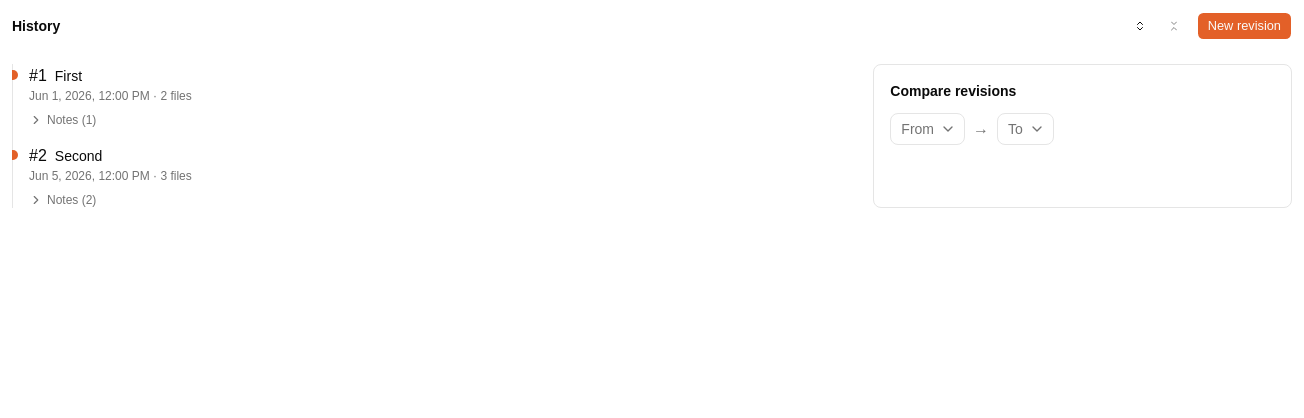
RevisionsTab -- notes drawer expand/collapse-all (Round 11 T7) › toggling one revision's drawer leaves the other untouched
The width and height of the screenshot is (1304, 418).
Click the button "Notes (1)". click: (63, 120)
box: [29,112,96,128]
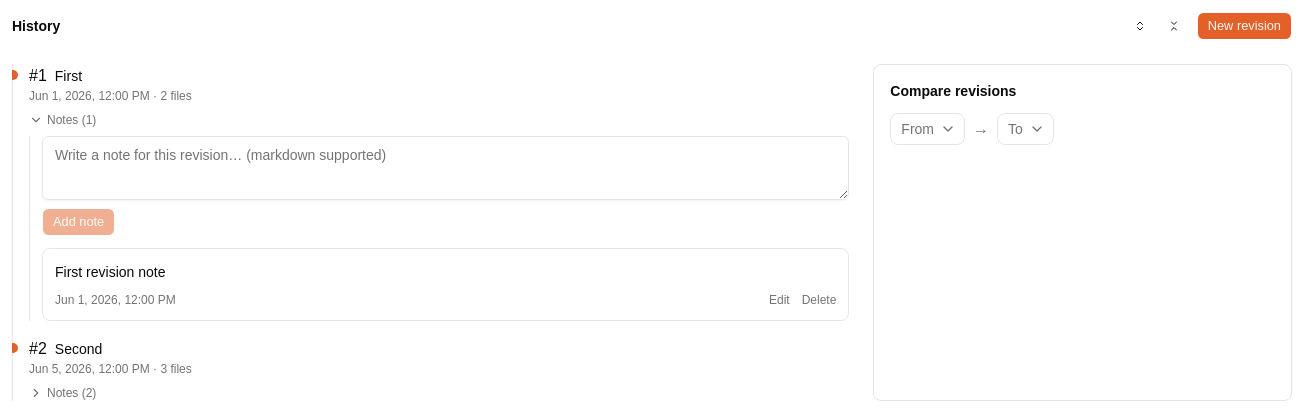
Expected: the button "Notes (1)" is expanded, [29,112,96,128]
Expected: the text "First revision note" is shown, [55,264,166,280]
